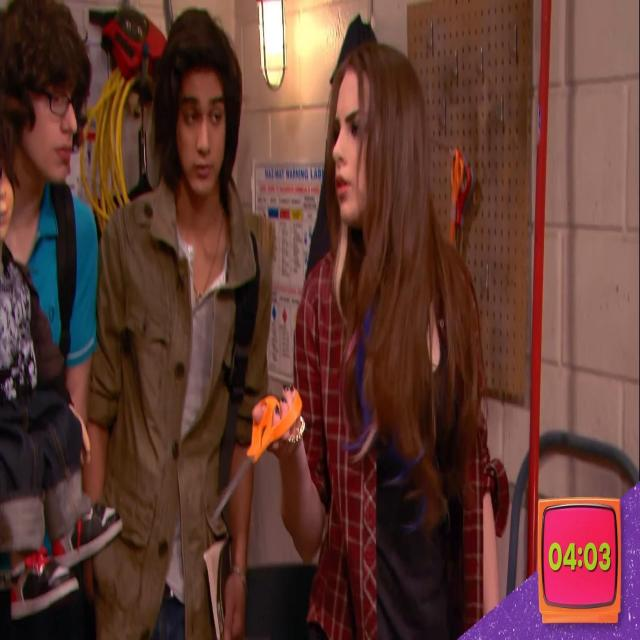scissor: (210, 388, 302, 521)
